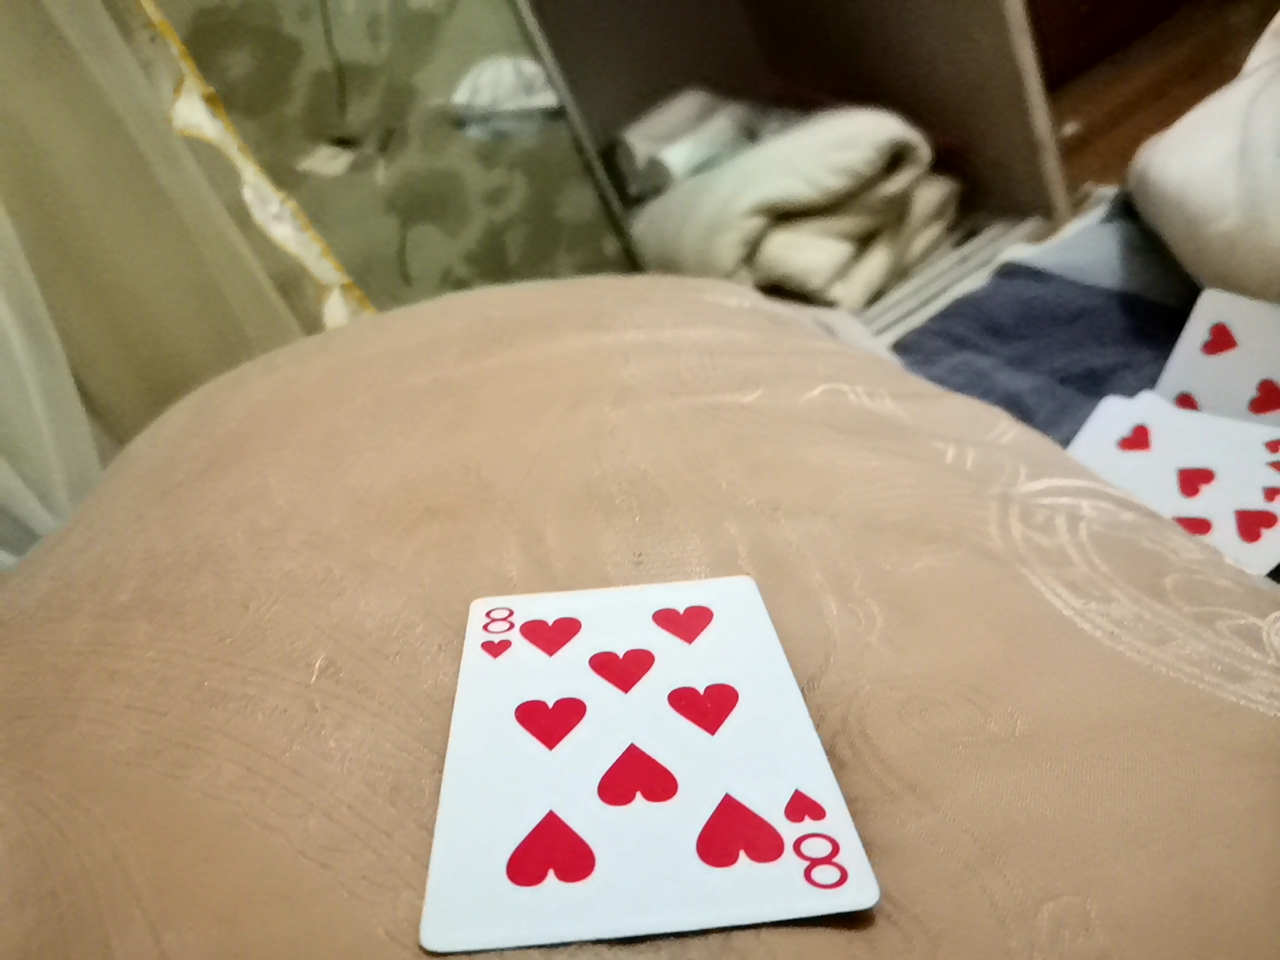hx 8: (377, 460, 920, 927)
